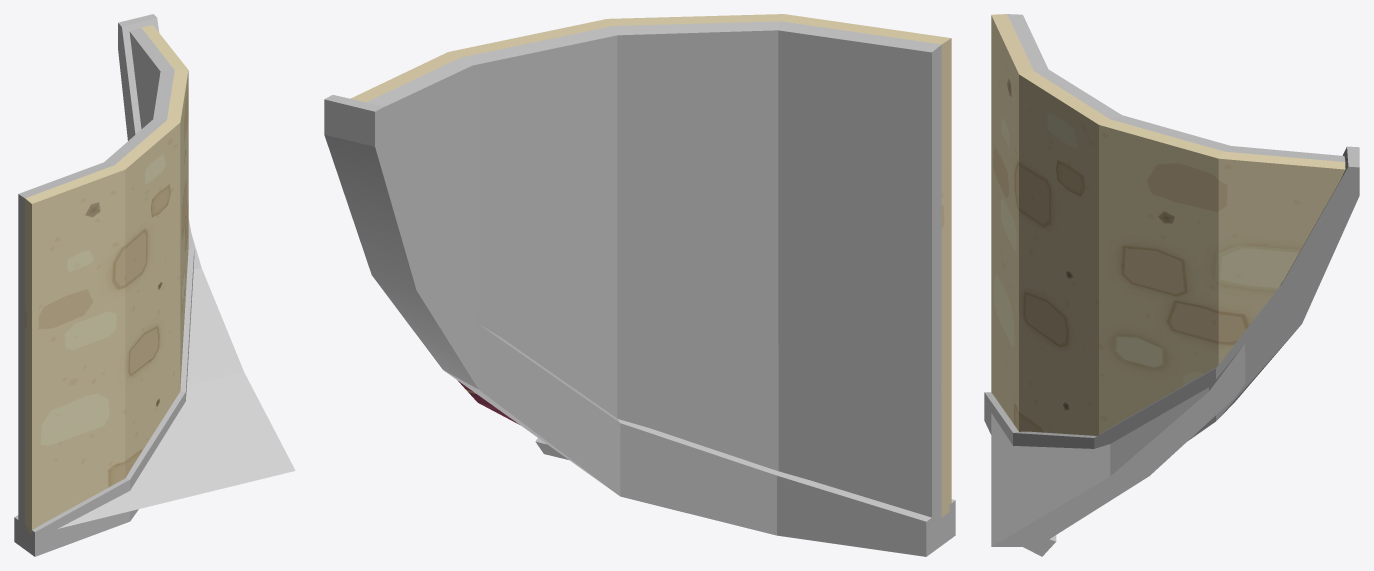
File: SM_Bld_Roof_Concave_Tower_02.fbx
3 renders of one model, left to right at view 1: azimuth 30°, elevation 25°; view 2: azimuth 150°, elevation 25°; view 3: azimuth 270°, elevation 25°, orthographic. The views are drawn at different scales.
Visible parts, largest first — view 1: SM_Bld_Roof_Concave_Tower_02; view 2: SM_Bld_Roof_Concave_Tower_02; view 3: SM_Bld_Roof_Concave_Tower_02.
Boxes of the visible parts, bbox=[...] form: SM_Bld_Roof_Concave_Tower_02: bbox=[14, 14, 295, 556]; SM_Bld_Roof_Concave_Tower_02: bbox=[324, 14, 955, 556]; SM_Bld_Roof_Concave_Tower_02: bbox=[984, 14, 1359, 556].
Bounding box in the file's own units: 266 × 322 × 266.
